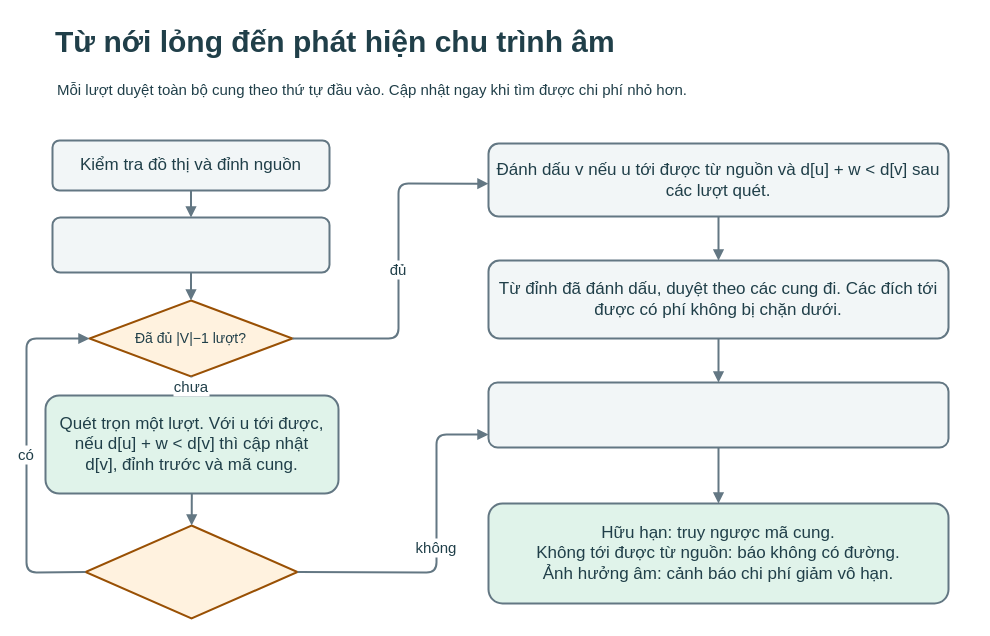
This 990x636 diagram has some shape labels left out. Each missing label, with the centre of its shape:
Chọn đích. Tra trạng thái nhãn và tiền nhiệm đã tính.: (x=718, y=414)
d[S] ← 0 đỉnh khác ← ∞: (x=190, y=244)
Lượt vừa rồi có cập nhật?: (x=191, y=571)
